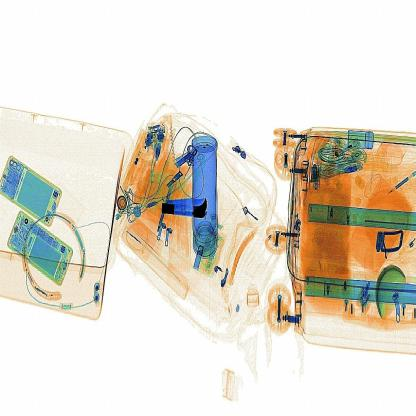knife: (160, 190, 210, 218)
